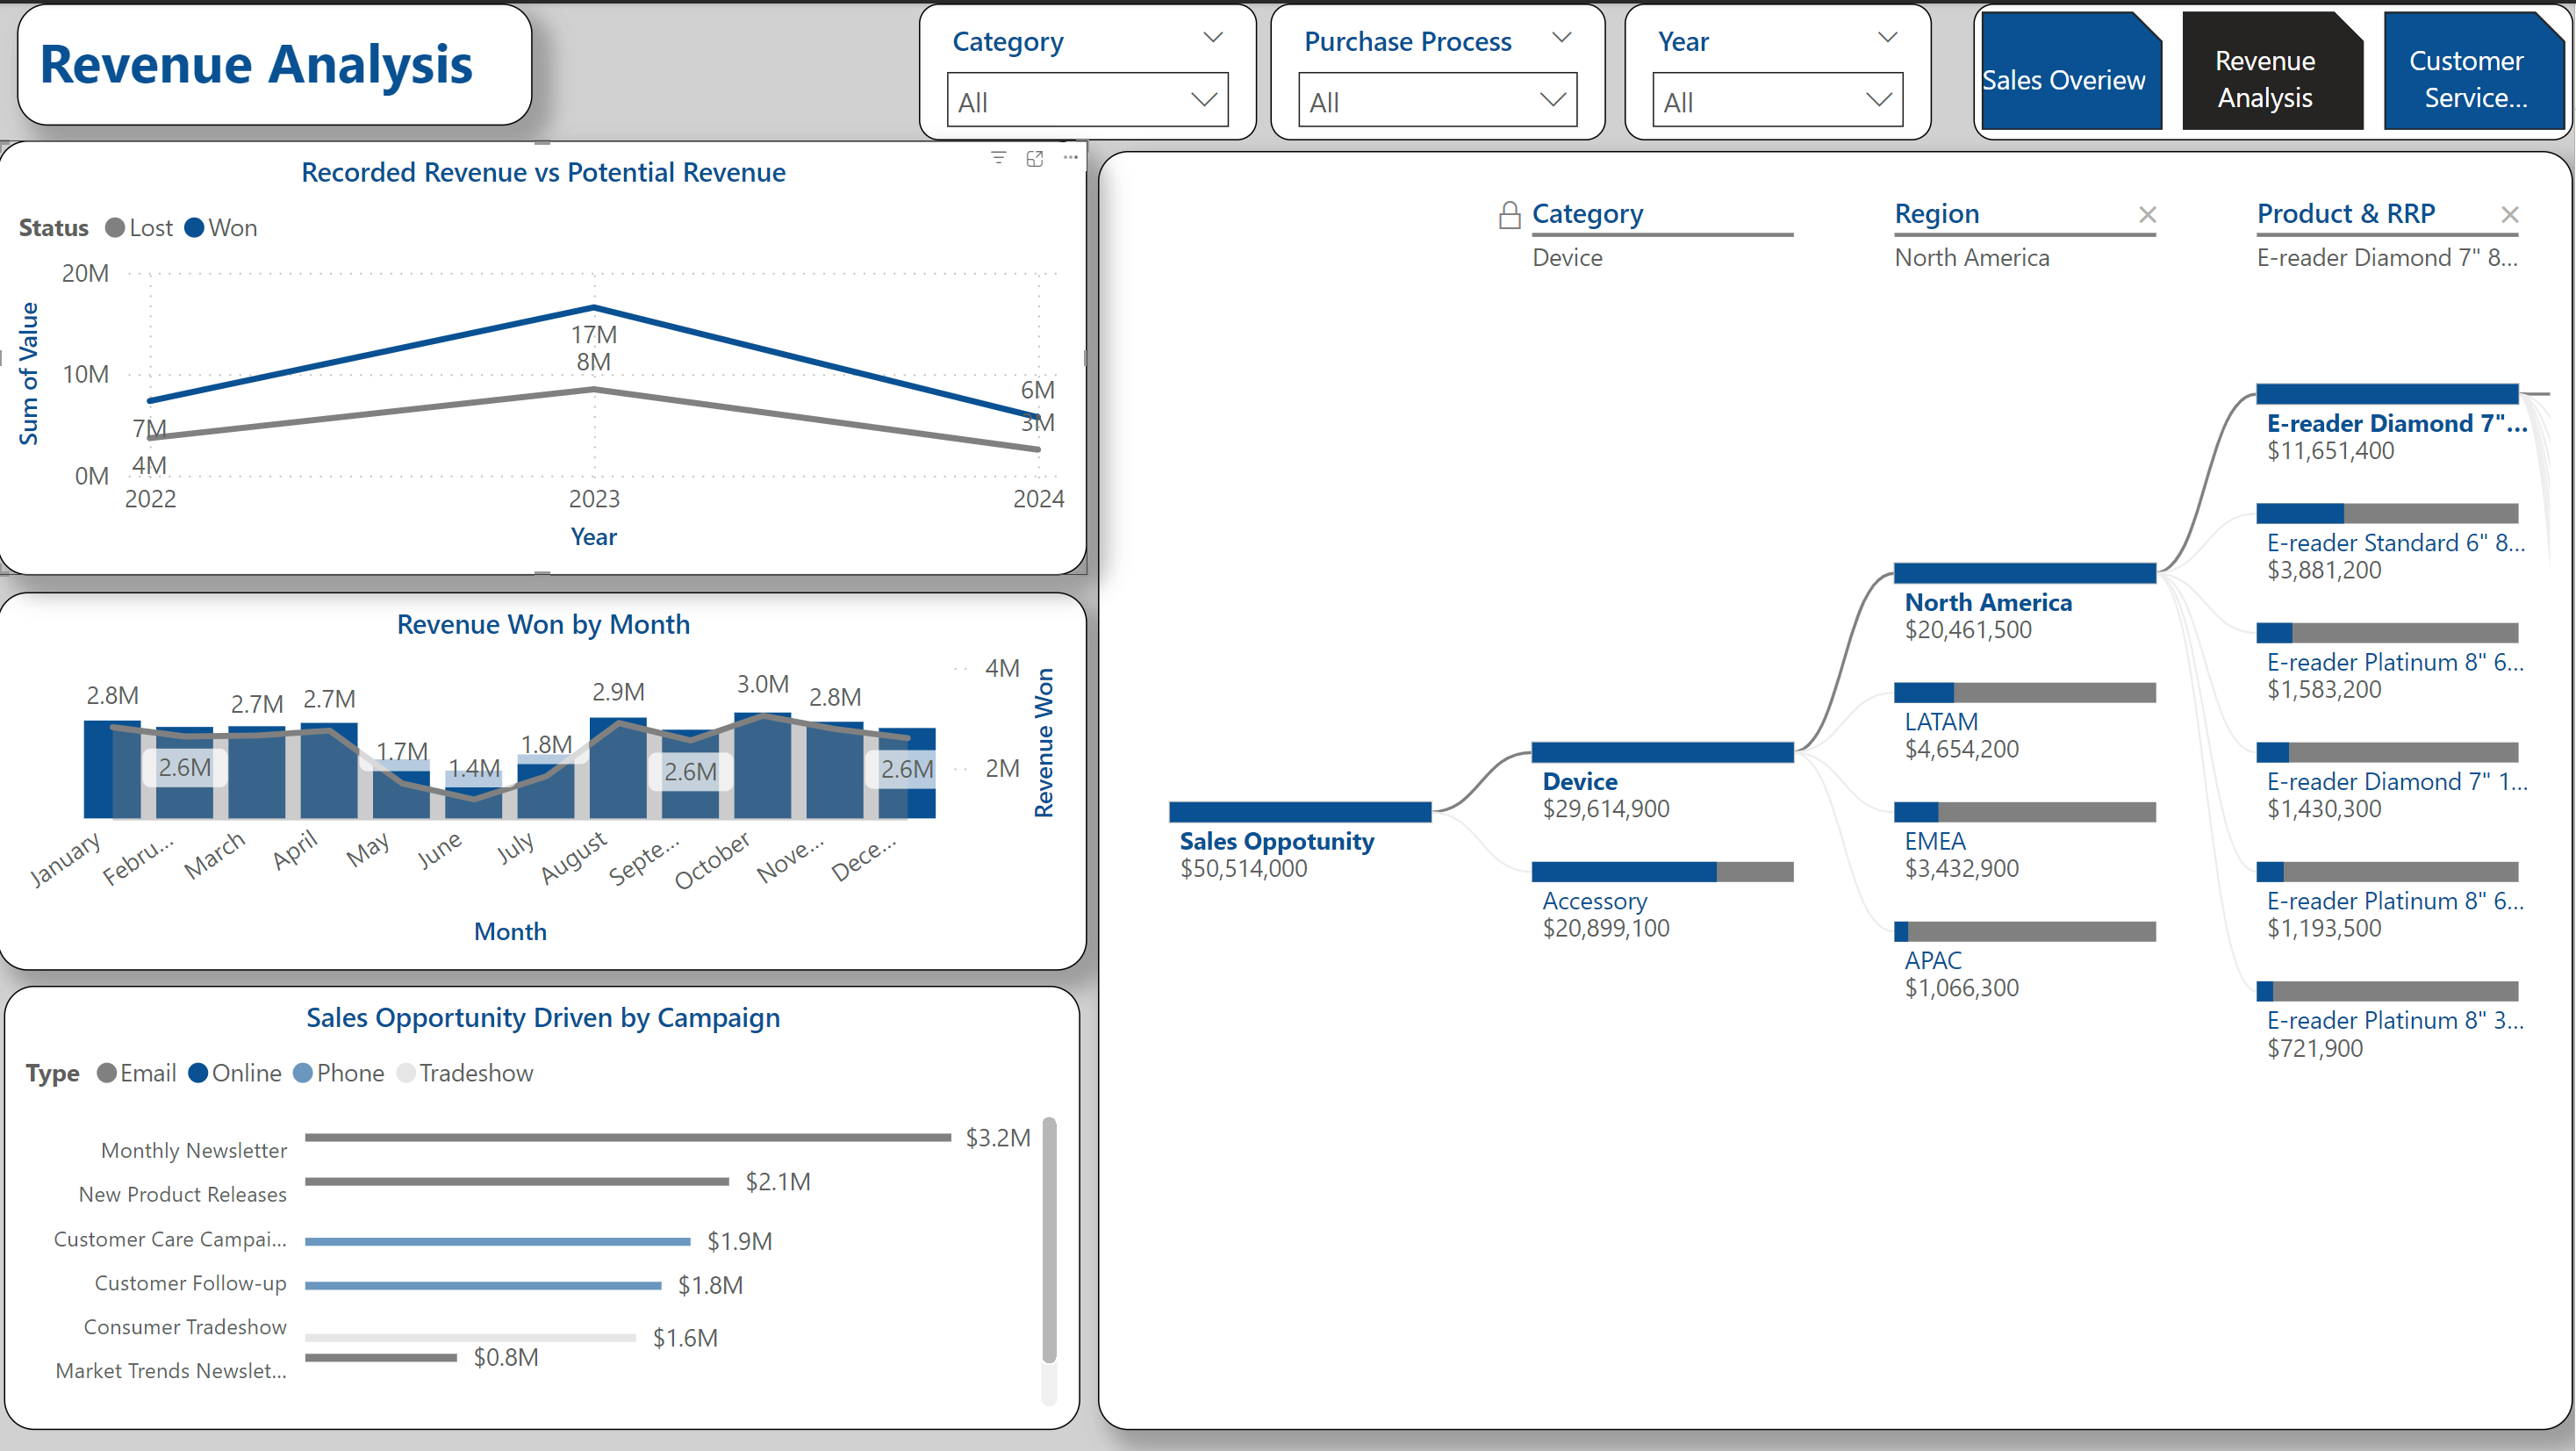

What the dashboard file says about the page in this screenshot:
{"tool":"powerbi","page":{"name":"Revenue Analysis","canvas":[1280,720],"ordinal":1},"visuals":[{"type":"textbox","box":[9.8,0,255.7,60.8],"z":0},{"type":"pageNavigator","box":[981.3,0,298.3,67.9],"z":1000},{"type":"lineStackedColumnComboChart","title":"Revenue Won by Month","fields":{"Category":["OpportunityTbl.CreatedonDate.Variation.Date Hierarchy.Month"],"Y2":["OpportunityTbl.Revenue Won 2"],"Y":["OpportunityTbl.Revenue Won"]},"box":[0,292.3,541.3,187.7],"z":2000},{"type":"slicer","fields":{"Values":["OpportunityTbl.Year"]},"box":[808.2,0,152.5,67.9],"z":3000},{"type":"slicer","fields":{"Values":["OpportunityTbl.Purchase Process"]},"box":[632.5,0,166.4,67.9],"z":4000},{"type":"slicer","fields":{"Values":["ProductTbl.Category"]},"box":[458,0,167.8,67.9],"z":5000},{"type":"decompositionTreeVisual","fields":{"ExplainBy":["ProductTbl.Category","Accounts.Region","ProductTbl.Product & RRP","OwnerTbl.Sale Owner","Accounts.Industry","Accounts.Territory"],"Analyze":["OpportunityTbl.Sales Oppotunity"]},"box":[546.6,73.2,733,635.1],"z":6000},{"type":"clusteredBarChart","title":"Sales Opportunity Driven by Campaign","fields":{"Category":["CampaignsTbl.Campaign Name"],"Y":["OpportunityTbl.Sales Oppotunity"],"Series":["CampaignsTbl.Type"]},"box":[3.3,488,534.6,220.4],"z":7000},{"type":"lineChart","title":"Recorded Revenue vs Potential Revenue","fields":{"Category":["OpportunityTbl.CreatedonDate.Variation.Date Hierarchy.Year"],"Series":["OpportunityTbl.Status"],"Y":["Sum(OpportunityTbl.Value)"]},"box":[0,67.9,541.3,215.7],"z":8000}]}

Visuals, with their boxes in screenshot pixels (x1, y1, x2, y2), scaled from the page's 1280x720 canvas onto the 2576x1451 screenshot:
textbox: {"x1": 19, "y1": 0, "x2": 535, "y2": 123}
pageNavigator: {"x1": 1975, "y1": 0, "x2": 2575, "y2": 137}
"Revenue Won by Month" lineStackedColumnComboChart: {"x1": 0, "y1": 589, "x2": 1089, "y2": 967}
slicer - OpportunityTbl.Year: {"x1": 1626, "y1": 0, "x2": 1934, "y2": 137}
slicer - OpportunityTbl.Purchase Process: {"x1": 1273, "y1": 0, "x2": 1608, "y2": 137}
slicer - ProductTbl.Category: {"x1": 922, "y1": 0, "x2": 1259, "y2": 137}
decompositionTreeVisual - ProductTbl.Category x Accounts.Region: {"x1": 1100, "y1": 147, "x2": 2575, "y2": 1427}
"Sales Opportunity Driven by Campaign" clusteredBarChart: {"x1": 7, "y1": 983, "x2": 1082, "y2": 1427}
"Recorded Revenue vs Potential Revenue" lineChart: {"x1": 0, "y1": 137, "x2": 1089, "y2": 571}
